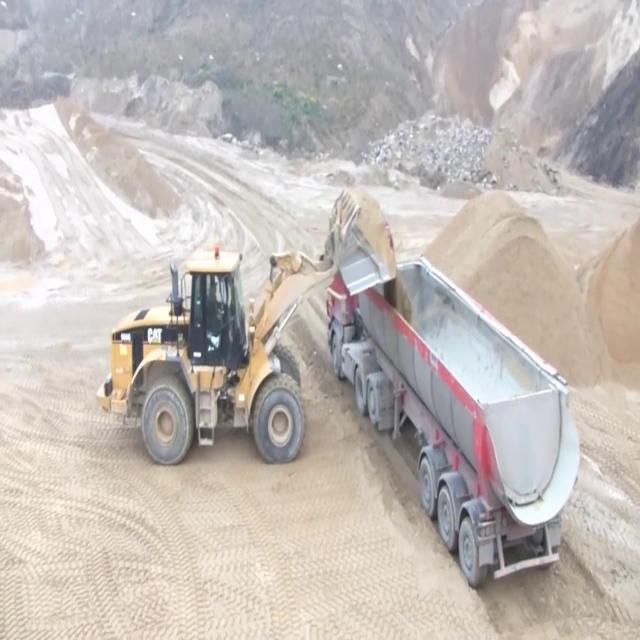Dump Truck: (324, 255, 584, 586)
Loader: (96, 188, 394, 461)
